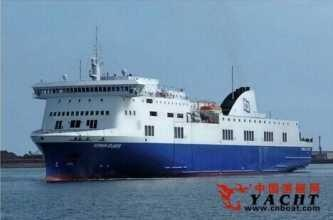Cargoship: (20, 59, 316, 183)
